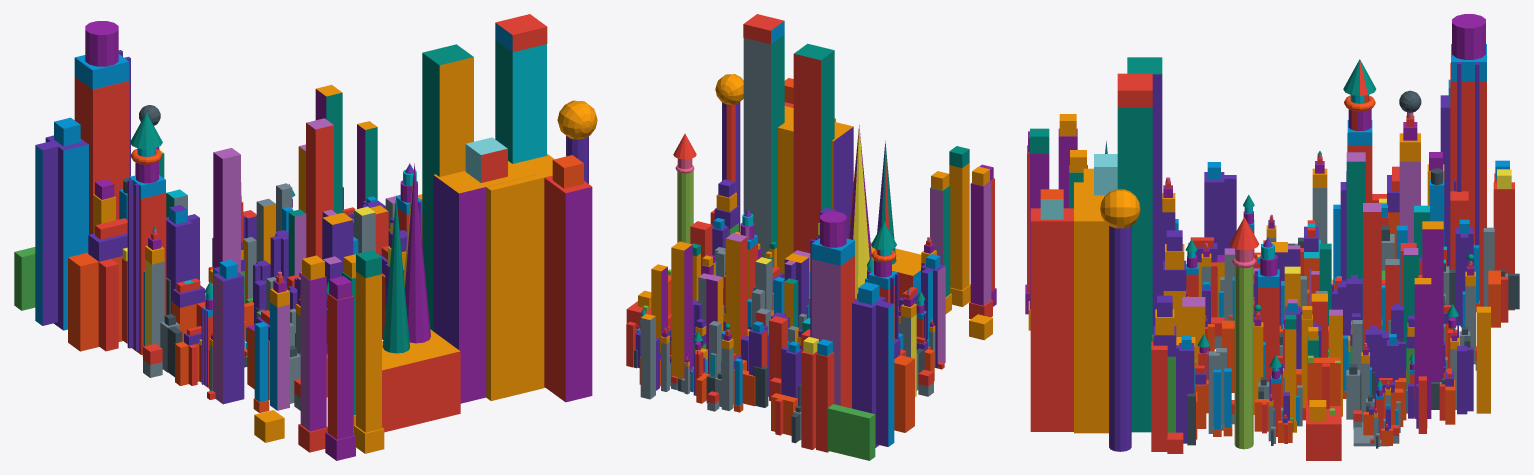
The model's file is City Scape.glb.
The picture shows the model from 3 angles, left to right: view 1: azimuth 30°, elevation 25°; view 2: azimuth 150°, elevation 25°; view 3: azimuth 270°, elevation 25°; orthographic projection. The views are drawn at different scales.
Parts seen in each view (by area): view 1: group1696500132, group1019147183, group1506758548, group890969760, group1019675409, group1613662250, group1874510910, group16227095, group1397387810, group1859644522, group620657487, group776794016 (+41 smaller); view 2: group890969760, group1613662250, group1874510910, group1019147183, group1510508773, group16227095, group1397387810, group1859644522, group620657487, group1254767752, group1655796861, group483831640 (+41 smaller); view 3: group1506758548, group1696500132, group1613662250, group604063888, group1874510910, group1220161783, group890969760, group1510508773, group1254767752, group1374258245, group1909651431, group1522070919 (+58 smaller).
Part boxes in pixels (bbox=[...]): group1696500132: bbox=[486, 154, 554, 400]; group1019147183: bbox=[433, 161, 538, 403]; group1506758548: bbox=[544, 175, 592, 402]; group890969760: bbox=[422, 44, 473, 330]; group1019675409: bbox=[382, 329, 460, 432]; group1613662250: bbox=[495, 40, 546, 163]; group1874510910: bbox=[74, 77, 129, 234]; group16227095: bbox=[45, 135, 88, 330]; group1397387810: bbox=[35, 141, 57, 325]; group1859644522: bbox=[300, 274, 326, 431]; group620657487: bbox=[356, 271, 381, 432]; group776794016: bbox=[213, 272, 244, 404]; group890969760: bbox=[793, 43, 834, 253]; group1613662250: bbox=[743, 34, 784, 266]; group1874510910: bbox=[811, 256, 854, 408]; group1019147183: bbox=[778, 111, 853, 277]; group1510508773: bbox=[671, 241, 692, 378]; group16227095: bbox=[852, 296, 886, 447]; group1397387810: bbox=[876, 301, 894, 446]; group1859644522: bbox=[970, 181, 991, 305]; group620657487: bbox=[949, 163, 969, 290]; group1254767752: bbox=[725, 233, 747, 355]; group1655796861: bbox=[827, 404, 875, 460]; group483831640: bbox=[848, 125, 871, 298]; group1506758548: bbox=[1030, 208, 1073, 431]; group1696500132: bbox=[1074, 182, 1108, 433]; group1613662250: bbox=[1117, 108, 1152, 432]; group604063888: bbox=[1109, 226, 1131, 451]; group1874510910: bbox=[1450, 63, 1486, 306]; group1220161783: bbox=[1234, 266, 1253, 449]; group890969760: bbox=[1127, 57, 1162, 334]; group1510508773: bbox=[1422, 221, 1443, 381]; group1254767752: bbox=[1363, 203, 1381, 347]; group1374258245: bbox=[1346, 152, 1365, 318]; group1909651431: bbox=[1414, 278, 1431, 418]; group1522070919: bbox=[1493, 182, 1514, 310].
Bounding box in the file's own units: 8.35 × 6.96 × 9.05.
